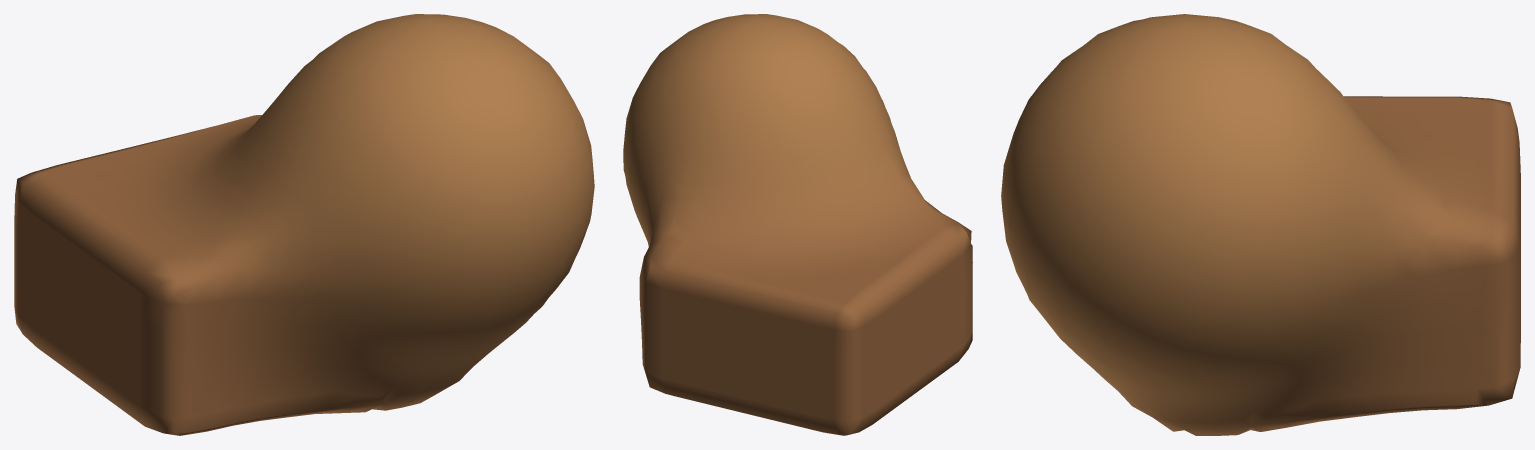
The model's file is 44_quads_1000.fbx.
The picture shows the model from 3 angles, left to right: view 1: azimuth 30°, elevation 25°; view 2: azimuth 150°, elevation 25°; view 3: azimuth 270°, elevation 25°; orthographic projection. The views are drawn at different scales.
Visible parts, largest first — view 1: claycore; view 2: claycore; view 3: claycore.
Part boxes in pixels (left/top/right/bottom): claycore: left=14, top=14, right=594, bottom=435; claycore: left=623, top=14, right=972, bottom=435; claycore: left=1001, top=14, right=1520, bottom=435.
Bounding box in the file's own units: 0.7478 × 0.6289 × 0.7274.
